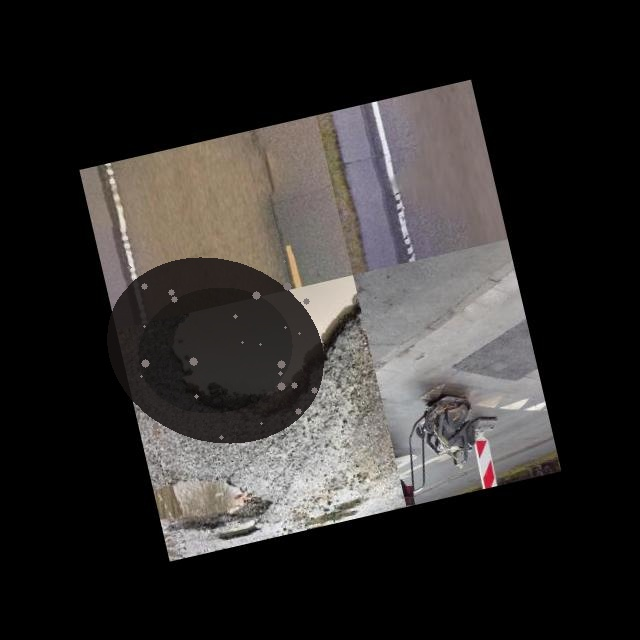pothole: (100, 255, 330, 445)
